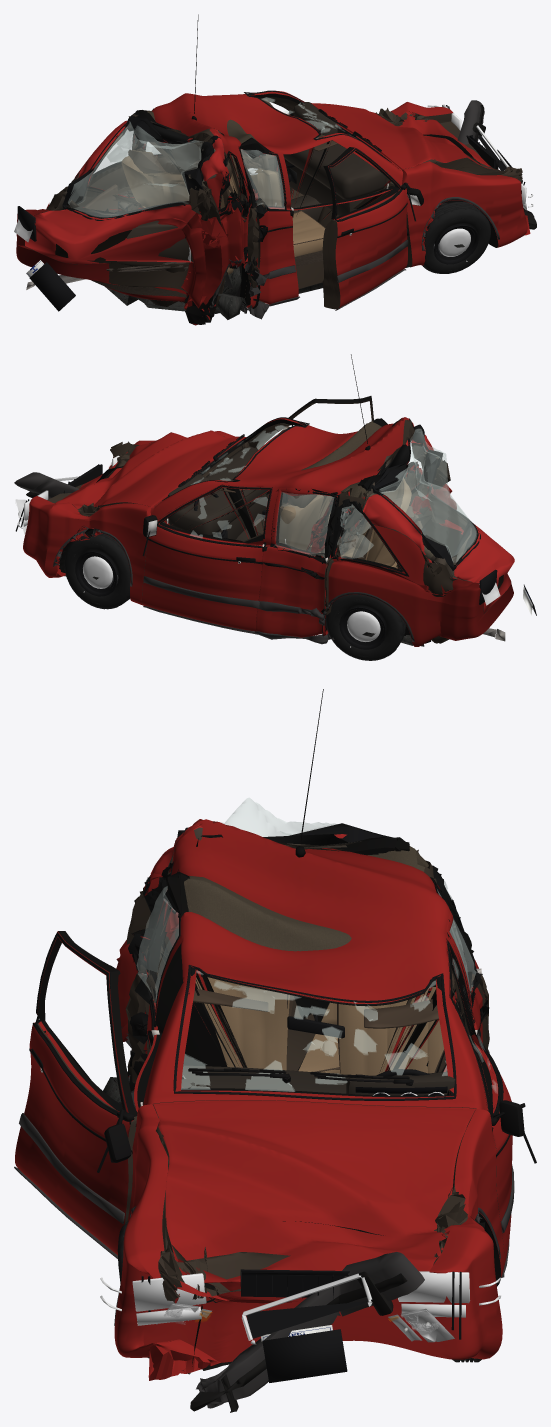
Rendered from hatchback85_rear_corner_R_d3_lod1.glb.
3 renders of one model, top to bottom at view 1: azimuth 30°, elevation 25°; view 2: azimuth 150°, elevation 25°; view 3: azimuth 270°, elevation 25°, orthographic. The views are drawn at different scales.
Parts seen in each view (by area): view 1: Body, Interior, Hatch, Glass_Hatch, Door_FR, Hood, Wheel_FR_mesh, Door_RR, Ends, Glass_RR, Underbody, Trim_FR (+4 smaller); view 2: Body, Door_FL, Interior, Glass_Hatch, Hood, Hatch, Door_RL, Wheel_RL_mesh, Wheel_FL_mesh, Glass_RL, Glass, Trim_FL (+6 smaller); view 3: Body, Hood, Interior, Door_FR, Ends, Glass, Bumper_F, Trim_FR, Door_FL, Glass_RR, Trim, Glass_Hatch (+6 smaller).
Boxes of the visible parts, x1,y1,x2,y2 form: Body: [16, 90, 530, 325]; Interior: [84, 99, 386, 274]; Hatch: [25, 113, 225, 264]; Glass_Hatch: [62, 115, 220, 220]; Door_FR: [322, 147, 407, 309]; Hood: [313, 104, 501, 174]; Wheel_FR_mesh: [422, 202, 490, 273]; Door_RR: [238, 146, 298, 308]; Ends: [14, 104, 533, 311]; Glass_RR: [241, 148, 286, 218]; Underbody: [26, 206, 464, 319]; Trim_FR: [328, 148, 423, 310]; Body: [23, 417, 513, 646]; Door_FL: [142, 484, 272, 631]; Interior: [168, 426, 422, 568]; Glass_Hatch: [372, 418, 480, 570]; Hood: [54, 430, 242, 511]; Hatch: [362, 418, 514, 613]; Door_RL: [256, 488, 337, 637]; Wheel_RL_mesh: [325, 594, 405, 660]; Wheel_FL_mesh: [64, 534, 130, 609]; Glass_RL: [270, 492, 336, 563]; Glass: [162, 417, 420, 571]; Trim_FL: [142, 485, 271, 634]; Body: [114, 819, 504, 1380]; Hood: [153, 1100, 475, 1291]; Interior: [181, 971, 455, 1095]; Door_FR: [15, 931, 137, 1255]; Ends: [100, 1269, 500, 1382]; Glass: [128, 864, 464, 1100]; Bumper_F: [190, 1252, 424, 1412]; Trim_FR: [14, 932, 142, 1258]; Door_FL: [446, 939, 512, 1268]; Glass_RR: [134, 886, 180, 1027]; Trim: [114, 689, 500, 1325]; Glass_Hatch: [172, 798, 396, 913].
Bounding box in the file's own units: 4.17 × 2.24 × 2.18.
Materials: 32 (5 with a texture image).
